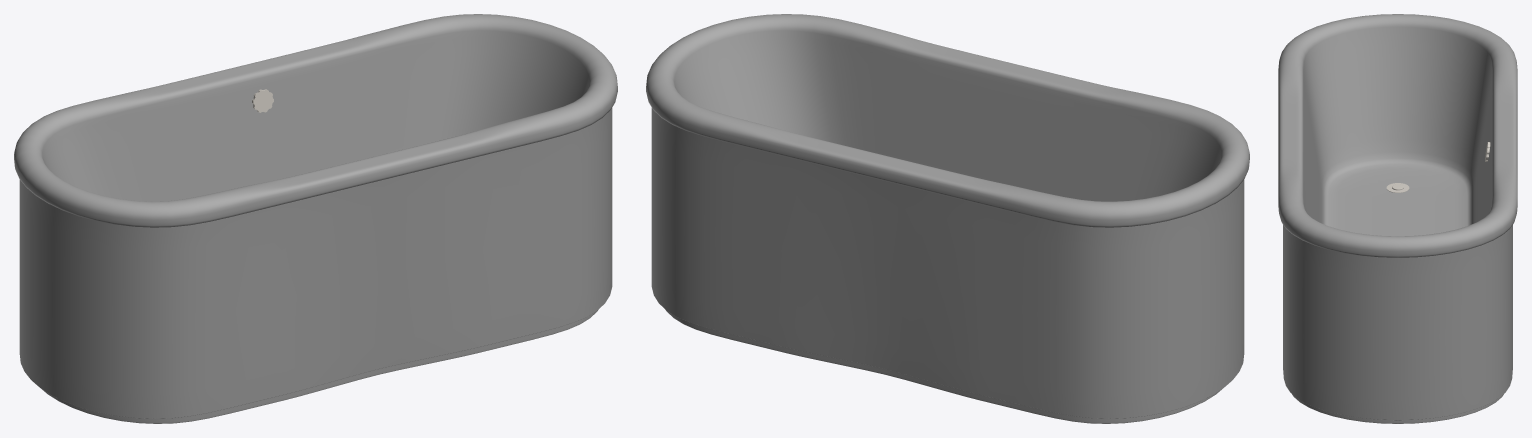
File: Bathtub_008.gltf
3 views of the same model, side by side, from view 1: azimuth 30°, elevation 25°; view 2: azimuth 150°, elevation 25°; view 3: azimuth 270°, elevation 25° (orthographic). The views are drawn at different scales.
Parts seen in each view (by area): view 1: Bathtub_008; view 2: Bathtub_008; view 3: Bathtub_008.
Boxes of the visible parts, x1,y1,x2,y2 form: Bathtub_008: (14, 14, 617, 423); Bathtub_008: (646, 14, 1249, 423); Bathtub_008: (1278, 14, 1517, 423).
Bounding box in the file's own units: 1.2 × 0.4499 × 0.5233.
Materials: 1 (1 with a texture image).
